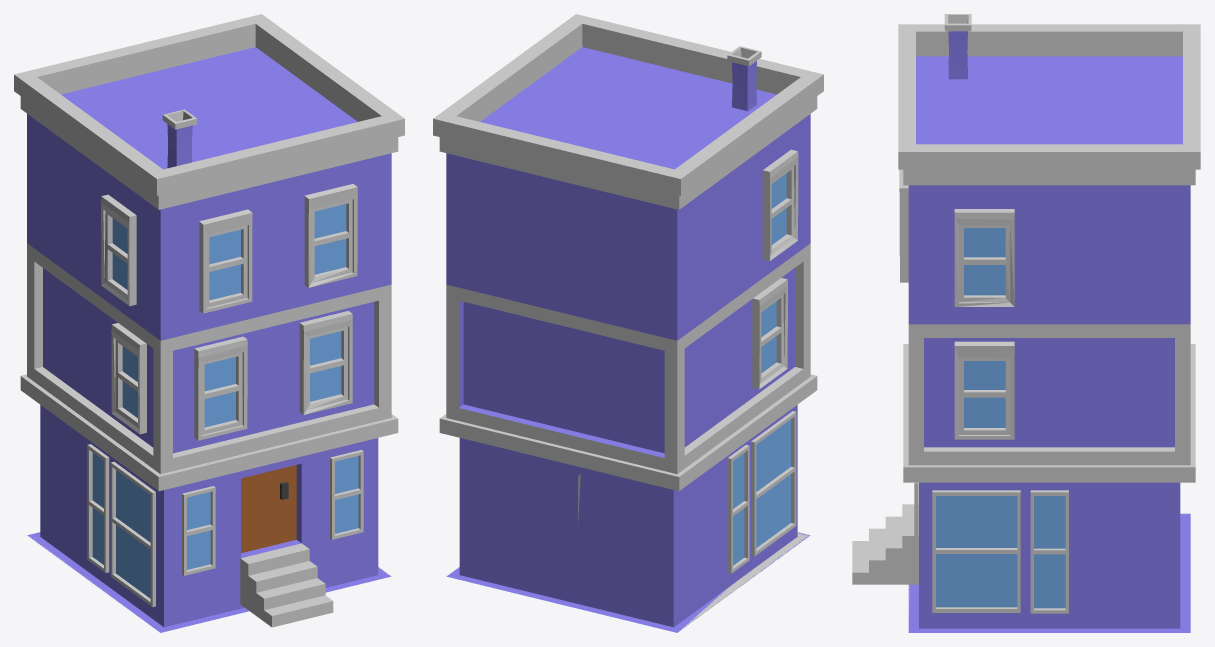
The model's file is Building 3.fbx.
3 renders of one model, left to right at view 1: azimuth 30°, elevation 25°; view 2: azimuth 150°, elevation 25°; view 3: azimuth 270°, elevation 25°, orthographic. The views are drawn at different scales.
Visible parts, largest first — view 1: Building 3; view 2: Building 3; view 3: Building 3.
Boxes of the visible parts, x1=… form: Building 3: x1=14, y1=14, x2=404, y2=632; Building 3: x1=433, y1=14, x2=823, y2=632; Building 3: x1=852, y1=14, x2=1200, y2=632.
Bounding box in the file's own units: 237 × 443 × 271.
